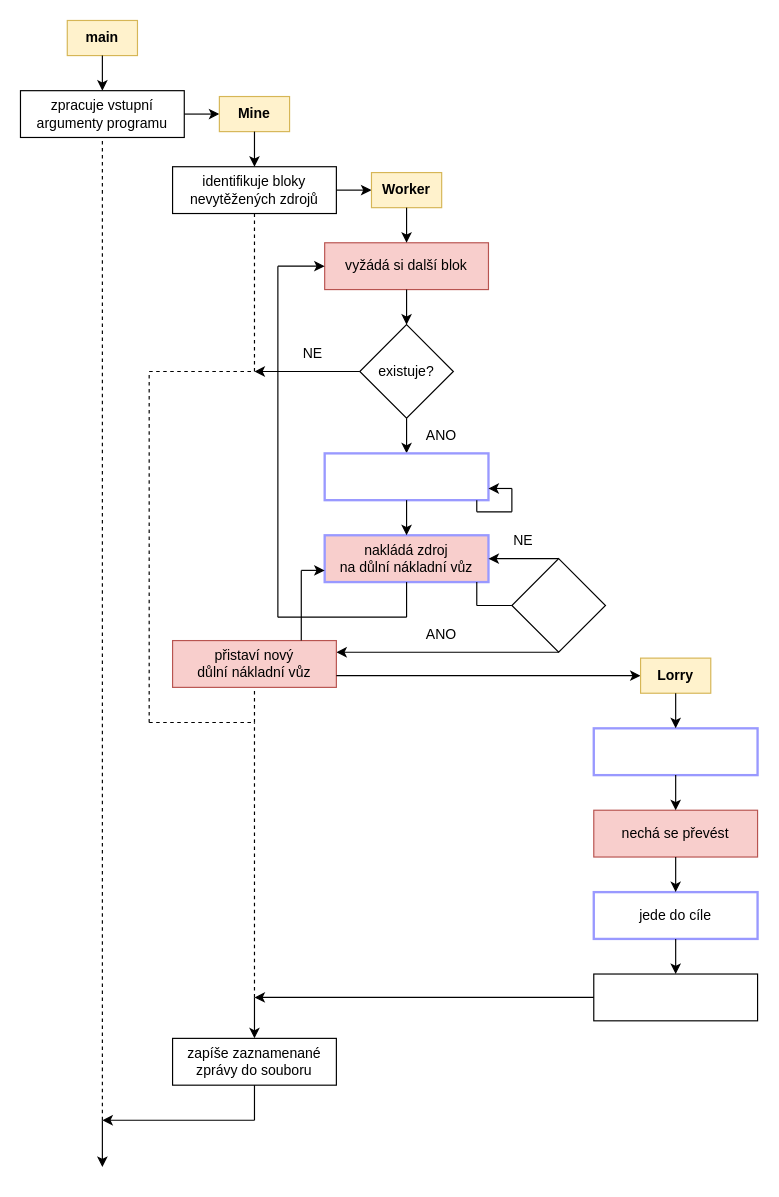
Image size: 779x1197. Some labels were removed from this diagram. The box of each missing label's shape, as (x1, y1, x2, y2) in pixels:
je plný?: (511, 558, 605, 652)
jede k přívozu: (592, 727, 758, 776)
těží zdroj: (323, 452, 489, 501)
vyloží zdroje: (593, 973, 758, 1021)
